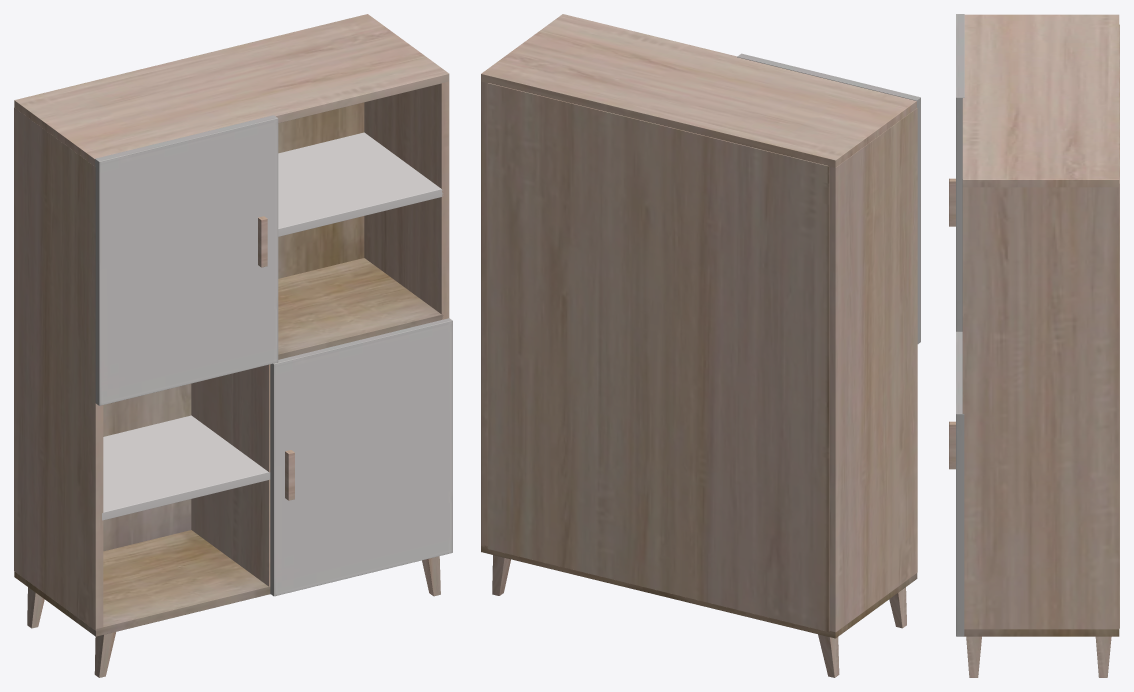
Rendered from abo-B07H8SQ2NZ.glb.
3 views of the same model, side by side, from view 1: azimuth 30°, elevation 25°; view 2: azimuth 150°, elevation 25°; view 3: azimuth 270°, elevation 25° (orthographic). The views are drawn at different scales.
Size of the model in its own units: 0.995 by 1.4 by 0.434.
Materials: 1 (1 with a texture image).
